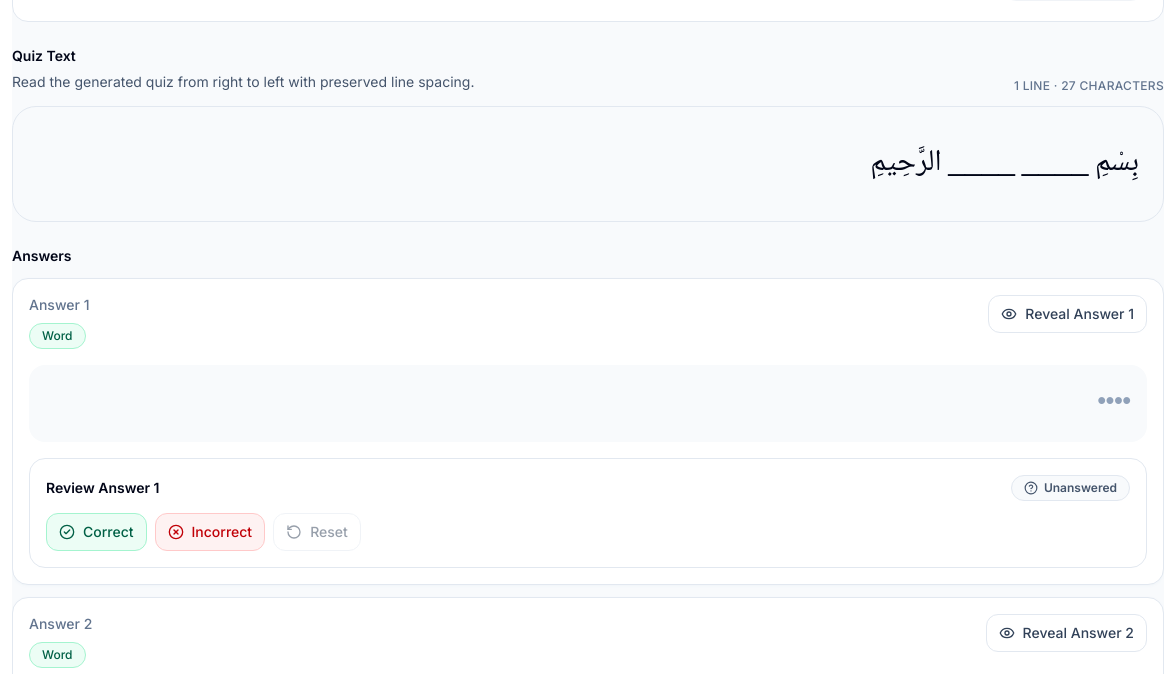
GeneratedQuizPreview Arabic reading UX › reveals one Arabic answer
The width and height of the screenshot is (1176, 674).
(page scrolled)
Click the button "Reveal Answer 1": [1068, 314] box 988,295 -> 1147,333
(page scrolled)
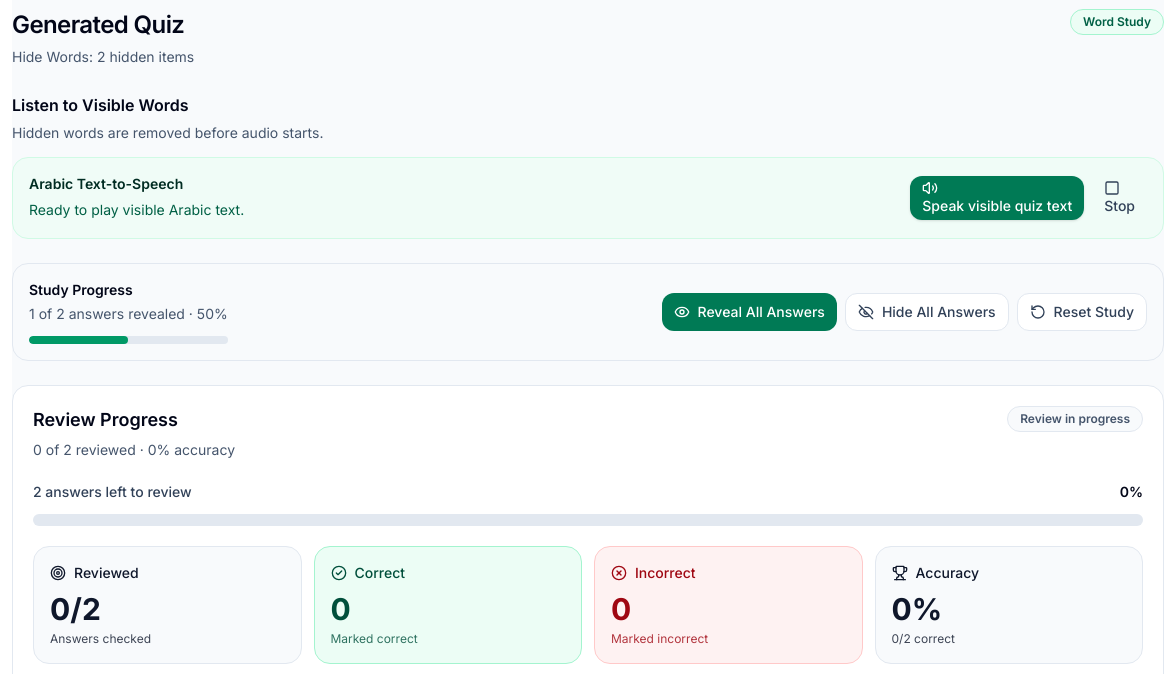
Now the text with test id "study-progress-text" reads "1 of 2 answers revealed · 50%", box 29,304 -> 228,324
